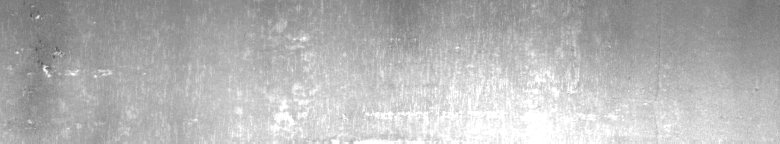hc: (15, 5, 112, 128)
